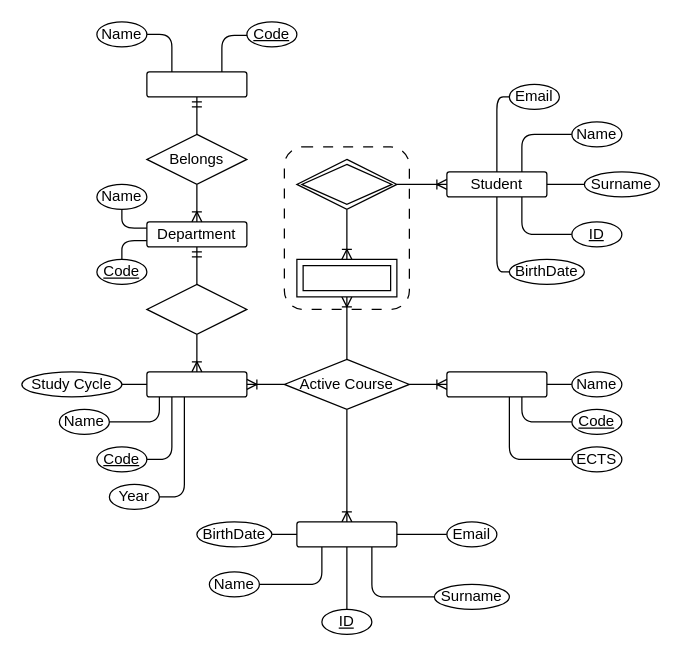
The diagram is 681 pixels wide and 656 high, and some of its shapes have lost their labels. Each missing label, with the centre of its shape:
"Course" goes at point (496, 384).
"Entity" goes at point (346, 277).
"Faculty" goes at point (196, 84).
"Offers" goes at point (196, 308).
"Program" goes at point (196, 384).
"Relationship" goes at point (346, 183).
"Staff" goes at point (346, 534).
